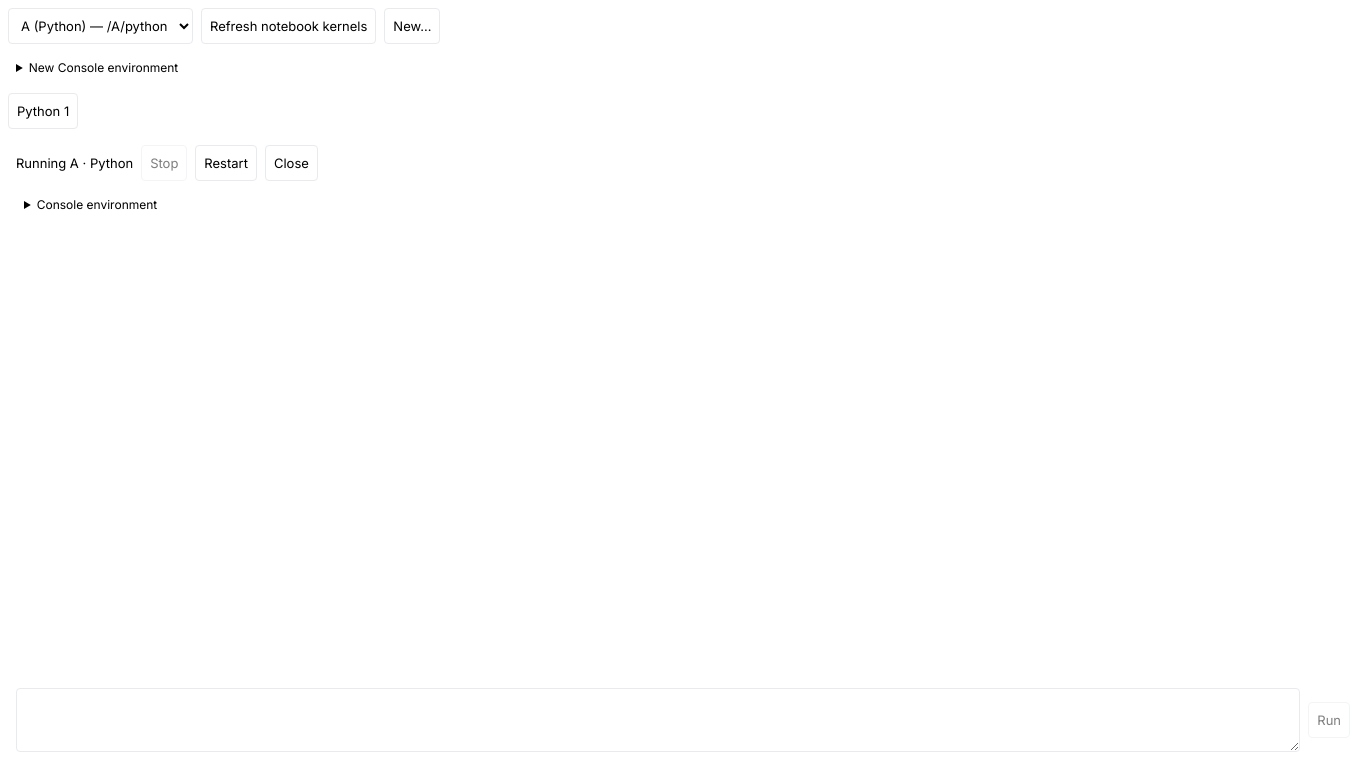
Test case: follows a changed project default until the new Console picker is explicitly selected
Expected: the dropdown named "Notebook kernel" shows "A (Python) — /A/python", [8,8,193,44]
Click the button "Refresh notebook kernels".
click(289, 26)  # box [201,8,376,44]
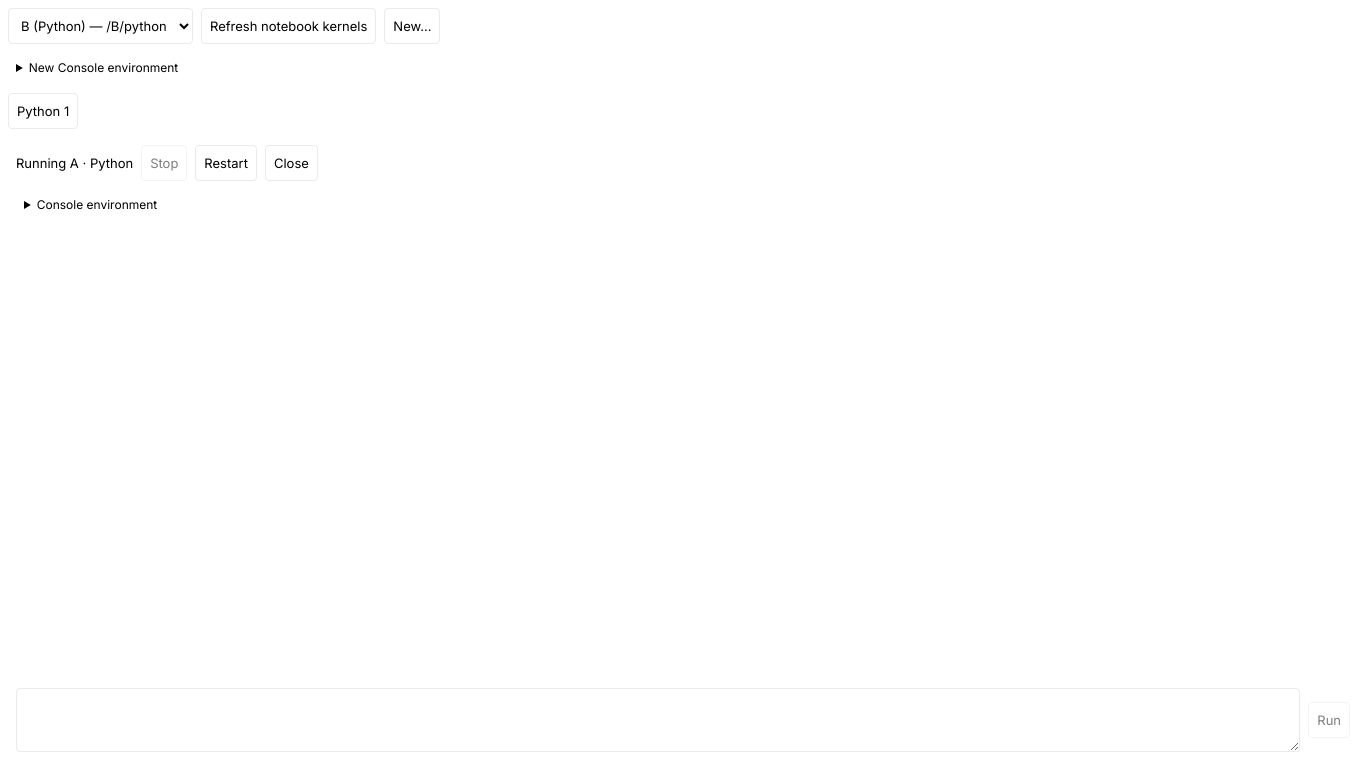
Result: the dropdown named "Notebook kernel" shows "B (Python) — /B/python" at [8,8,193,44]
